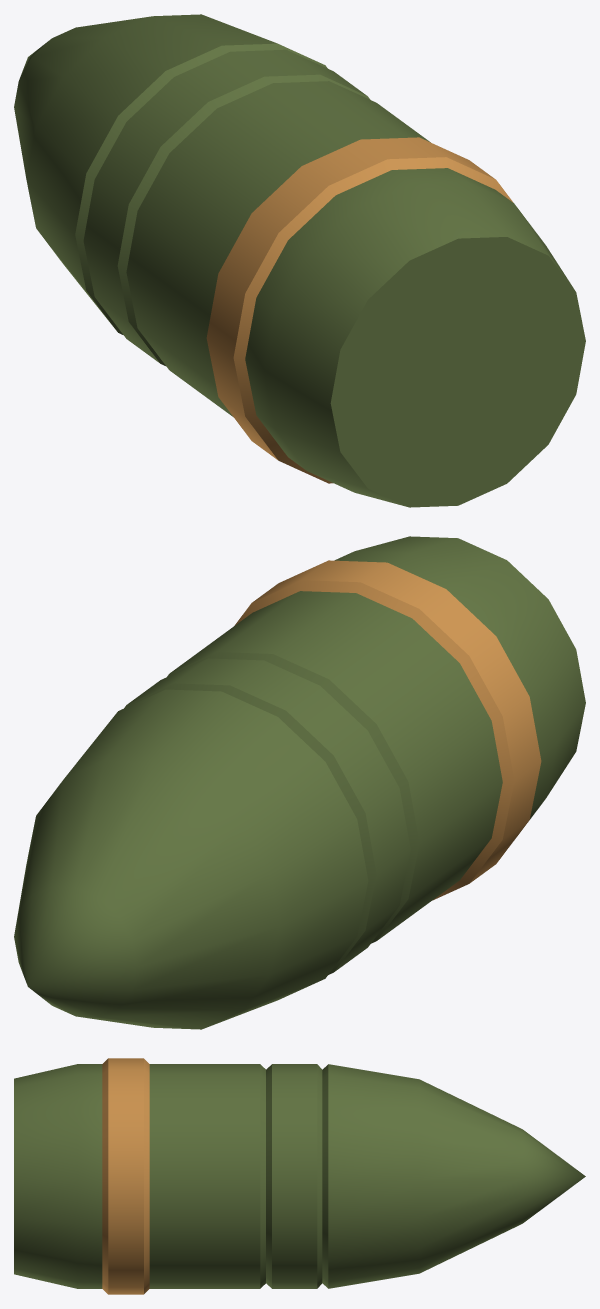
The model's file is ap_bullet_122.fbx.
3 views of the same model, one above another, from view 1: azimuth 30°, elevation 25°; view 2: azimuth 150°, elevation 25°; view 3: azimuth 270°, elevation 25° (orthographic). The views are drawn at different scales.
Parts seen in each view (by area): view 1: Bullet; view 2: Bullet; view 3: Bullet.
Part boxes in pixels (x1,y1,x2,y2): Bullet: (14,14,585,507); Bullet: (14,536,585,1029); Bullet: (14,1058,585,1294).
Size of the model in its own units: 82.6 by 82.6 by 200.
